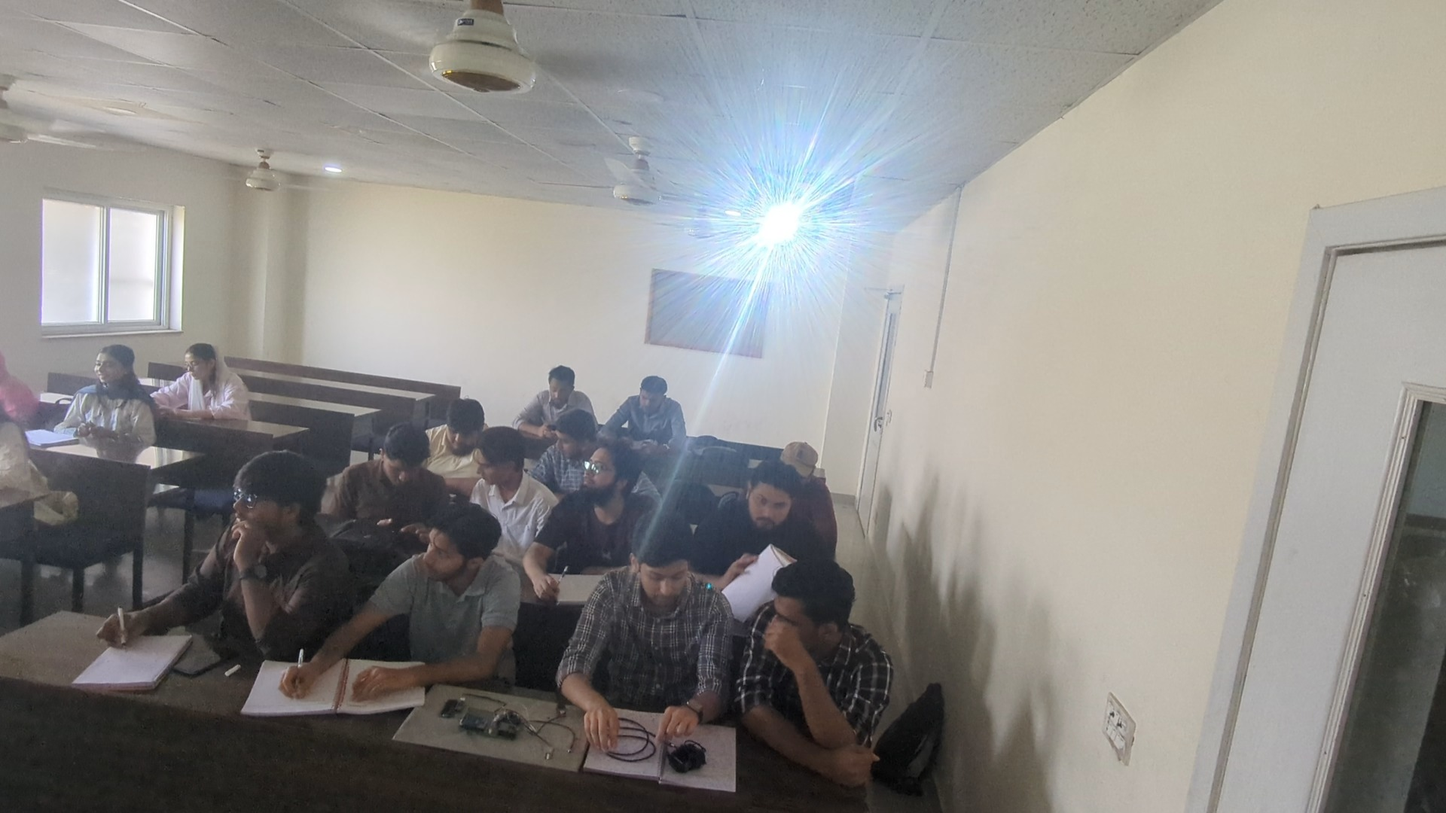look_forward: (171, 444, 327, 636), (377, 508, 505, 645), (550, 440, 634, 558), (76, 337, 147, 442)
read: (594, 516, 738, 756), (620, 363, 692, 455), (740, 472, 796, 590), (430, 398, 486, 486)
turn_head: (742, 543, 905, 735), (537, 409, 600, 479)
using_device: (156, 345, 271, 431), (446, 429, 539, 526), (361, 413, 430, 535), (512, 346, 564, 444)
